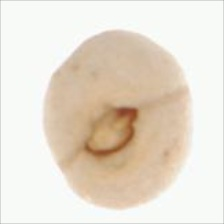L3: (83, 105, 141, 159)
L4: (42, 31, 193, 210)
